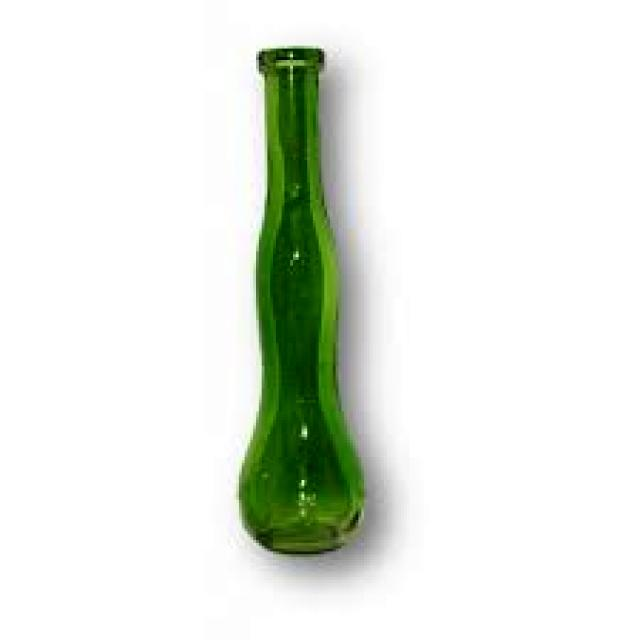Glass: (233, 43, 372, 560)
